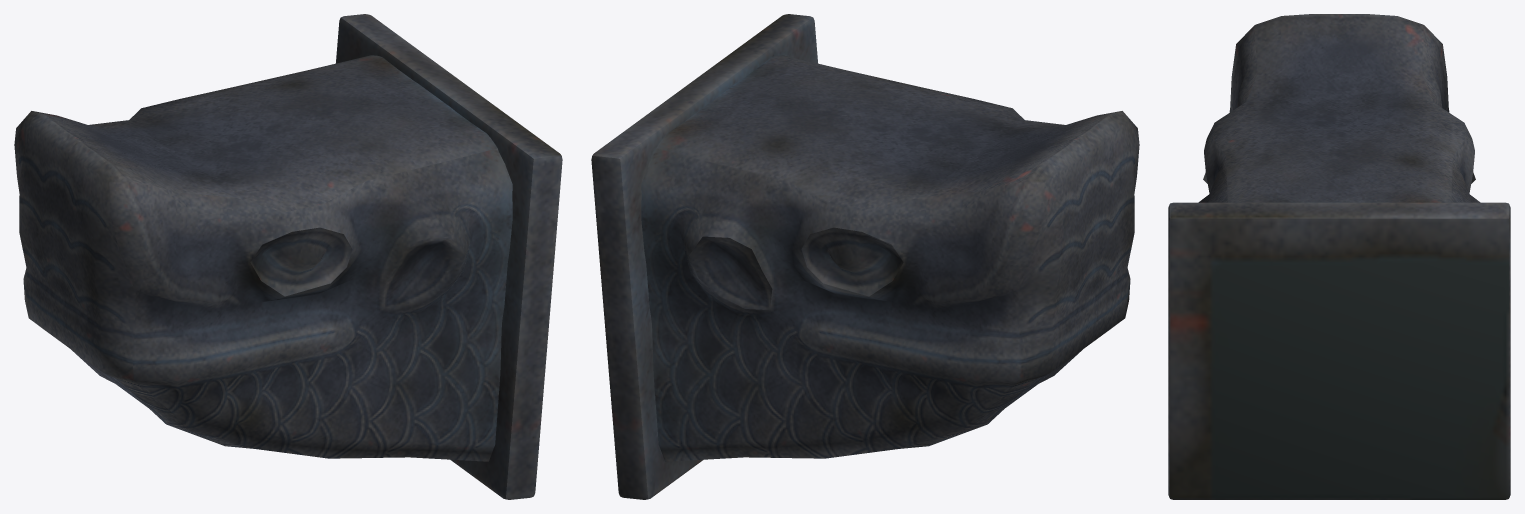
File: SM_Tosu01b.fbx
3 views of the same model, side by side, from view 1: azimuth 30°, elevation 25°; view 2: azimuth 150°, elevation 25°; view 3: azimuth 270°, elevation 25° (orthographic). The views are drawn at different scales.
Visible parts, largest first — view 1: SM_Tosu01b; view 2: SM_Tosu01b; view 3: SM_Tosu01b.
Boxes of the visible parts, x1,y1,x2,y2 form: SM_Tosu01b: (14,14,562,499); SM_Tosu01b: (591,14,1139,499); SM_Tosu01b: (1168,14,1510,499).
Bounding box in the file's own units: 39.36 × 32.48 × 34.63.
1 material, 1 textured.
